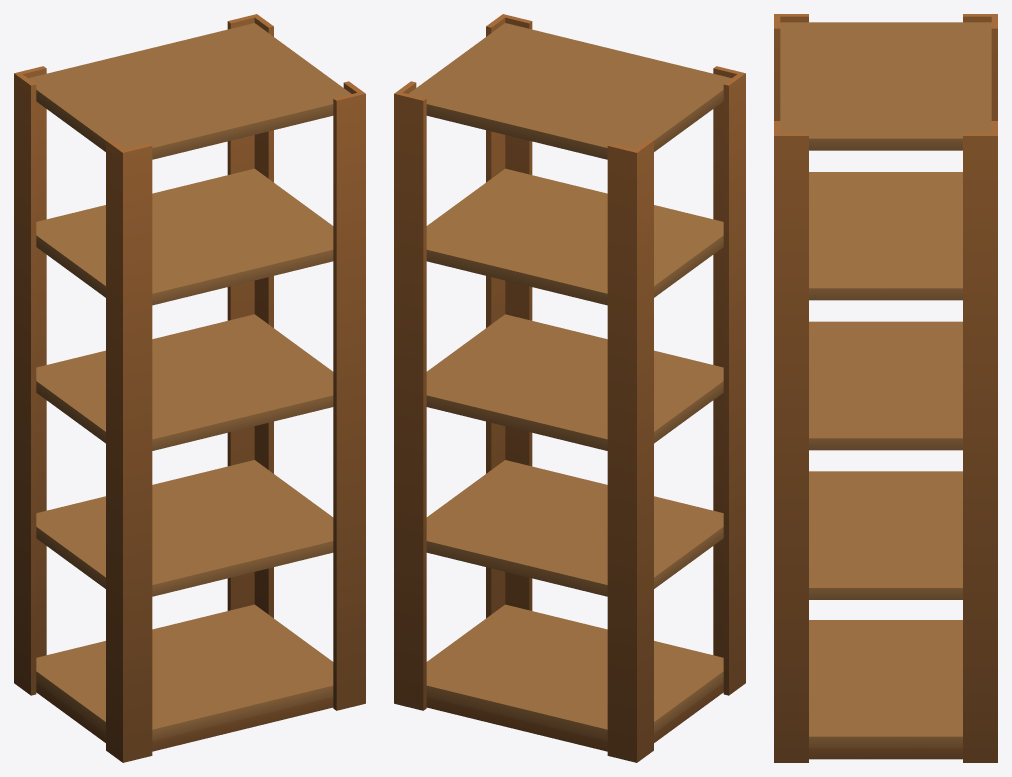
File: Prop_Shelf_01.obj
The picture shows the model from 3 angles, left to right: view 1: azimuth 30°, elevation 25°; view 2: azimuth 150°, elevation 25°; view 3: azimuth 270°, elevation 25°; orthographic projection. The views are drawn at different scales.
Visible parts, largest first — view 1: Prop_Shelf_01; view 2: Prop_Shelf_01; view 3: Prop_Shelf_01.
Boxes of the visible parts, x1,y1,x2,y2 form: Prop_Shelf_01: (14,14,365,762); Prop_Shelf_01: (394,14,745,762); Prop_Shelf_01: (774,14,997,762).
Size of the model in its own units: 0.6139 by 1.47 by 0.4767.
1 material, 1 textured.
